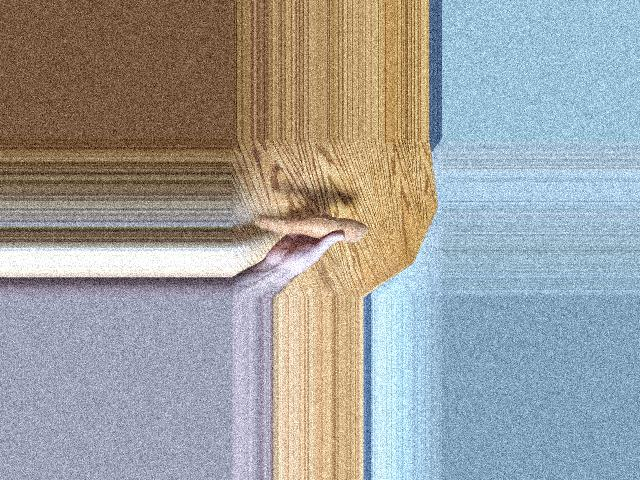sweet_potato: (250, 212, 365, 238)
